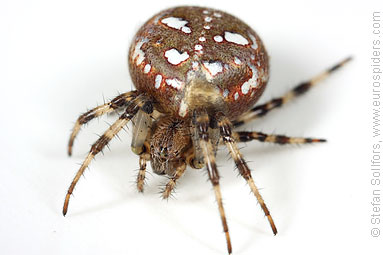spider: (41, 1, 357, 255)
